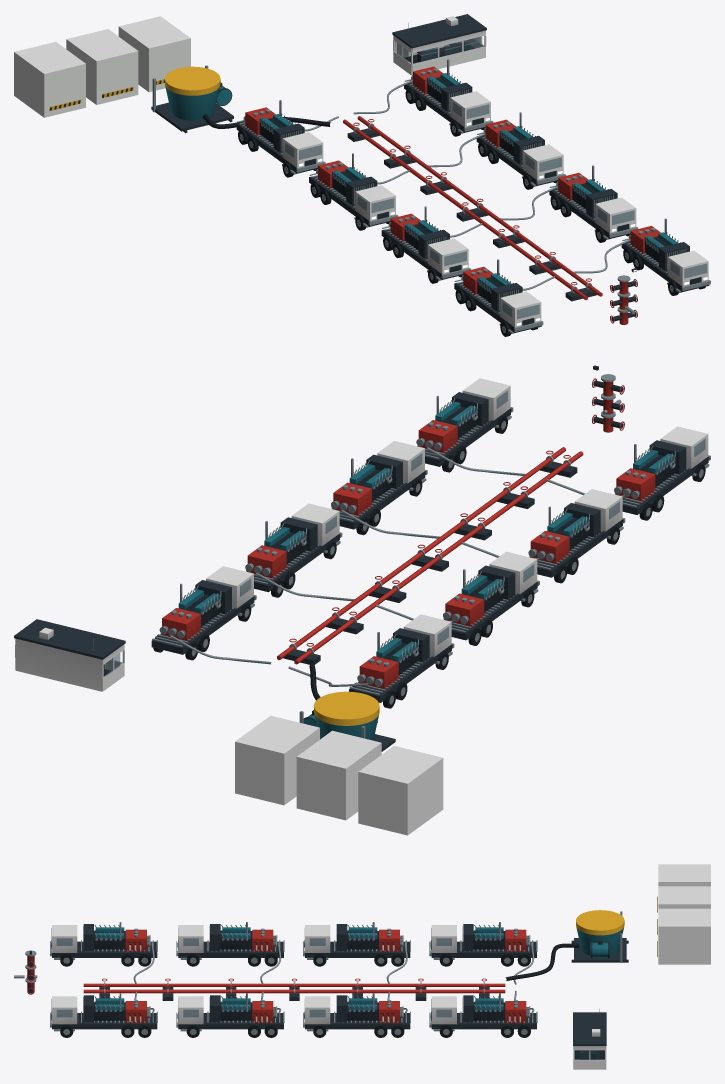
File: frac_spread_lodH.glb
The picture shows the model from 3 angles, top to bottom: view 1: azimuth 30°, elevation 25°; view 2: azimuth 150°, elevation 25°; view 3: azimuth 270°, elevation 25°; orthographic projection. The views are drawn at different scales.
Parts seen in each view (by area): view 1: sand_storage_surface_white, missile_surface_red, control_van_surface_dark, control_van_surface_white, missile_surface_dark, blender_surface_blue, blender_surface_yellow, high_pressure_lines_surface_steel, pump_truck_4_surface_white, pump_truck_7_surface_white, pump_truck_1_surface_white, pump_truck_3_surface_white (+14 smaller); view 2: sand_storage_surface_white, triplex_pump_surface_red (×8), missile_surface_red, control_van_surface_white, control_van_surface_dark, missile_surface_dark, high_pressure_lines_surface_steel, blender_surface_yellow, pump_truck_5_surface_dark, pump_truck_1_surface_dark, pump_truck_2_surface_dark, pump_truck_4_surface_dark (+13 smaller); view 3: sand_storage_surface_white, missile_surface_red, triplex_pump_surface_red (×8), engine_surface_dark (×8), control_van_surface_dark, pump_truck_7_surface_dark, pump_truck_6_surface_dark, pump_truck_5_surface_dark, pump_truck_8_surface_dark, pump_truck_2_surface_dark, pump_truck_3_surface_dark, blender_surface_yellow (+29 smaller).
Part boxes in pixels (left/top/right/bottom): sand_storage_surface_white: left=14, top=16, right=190, bottom=117; missile_surface_red: left=343, top=116, right=602, bottom=300; control_van_surface_dark: left=392, top=14, right=486, bottom=63; control_van_surface_white: left=393, top=16, right=486, bottom=75; missile_surface_dark: left=347, top=128, right=596, bottom=301; blender_surface_blue: left=165, top=86, right=231, bottom=120; blender_surface_yellow: left=165, top=66, right=220, bottom=95; high_pressure_lines_surface_steel: left=285, top=80, right=630, bottom=290; pump_truck_4_surface_white: left=500, top=291, right=541, bottom=327; pump_truck_7_surface_white: left=595, top=197, right=636, bottom=233; pump_truck_1_surface_white: left=282, top=132, right=323, bottom=167; pump_truck_3_surface_white: left=428, top=238, right=468, bottom=274; sand_storage_surface_white: left=235, top=715, right=443, bottom=835; triplex_pump_surface_red (×8): left=162, top=420, right=655, bottom=689; missile_surface_red: left=277, top=447, right=583, bottom=664; control_van_surface_white: left=15, top=627, right=124, bottom=691; control_van_surface_dark: left=14, top=619, right=125, bottom=676; missile_surface_dark: left=283, top=461, right=577, bottom=664; high_pressure_lines_surface_steel: left=170, top=447, right=624, bottom=686; blender_surface_yellow: left=314, top=691, right=379, bottom=725; pump_truck_5_surface_dark: left=151, top=580, right=254, bottom=654; pump_truck_1_surface_dark: left=349, top=628, right=451, bottom=702; pump_truck_2_surface_dark: left=444, top=565, right=537, bottom=640; pump_truck_4_surface_dark: left=615, top=440, right=708, bottom=514; sand_storage_surface_white: left=658, top=864, right=710, bottom=964; missile_surface_red: left=83, top=978, right=505, bottom=993; triplex_pump_surface_red (×8): left=125, top=929, right=526, bottom=1023; engine_surface_dark (×8): left=94, top=931, right=505, bottom=1020; control_van_surface_dark: left=573, top=1012, right=606, bottom=1059; pump_truck_7_surface_dark: left=178, top=995, right=283, bottom=1029; pump_truck_6_surface_dark: left=304, top=995, right=410, bottom=1029; pump_truck_5_surface_dark: left=431, top=995, right=536, bottom=1029; pump_truck_8_surface_dark: left=51, top=995, right=157, bottom=1029; pump_truck_2_surface_dark: left=304, top=924, right=410, bottom=957; pump_truck_3_surface_dark: left=178, top=924, right=283, bottom=957; blender_surface_yellow: left=576, top=910, right=624, bottom=935.
Bounding box in the file's own units: 37.6 × 5.24 × 66.1.
